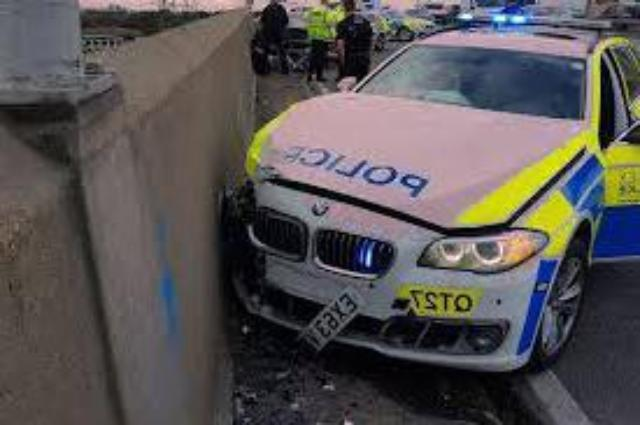police_car: (228, 14, 640, 370)
